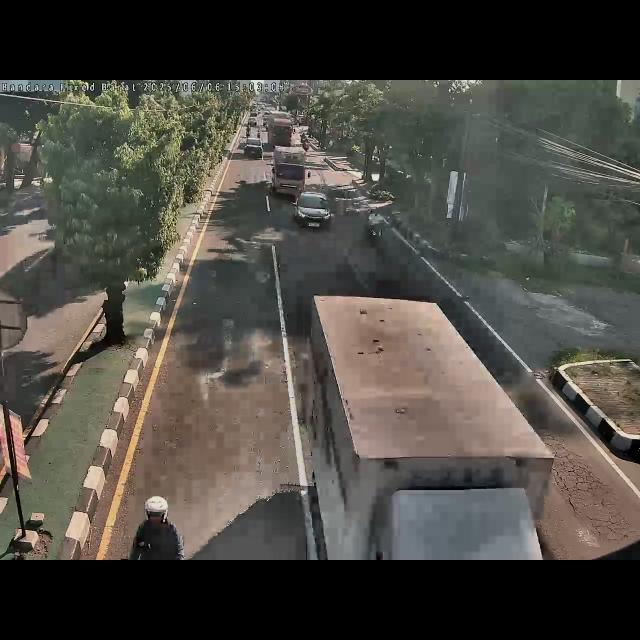Mobil: (290, 190, 334, 230)
Motor: (126, 490, 186, 560), (362, 204, 388, 250)
Truk: (300, 288, 564, 560), (270, 145, 310, 199), (242, 138, 264, 160)
